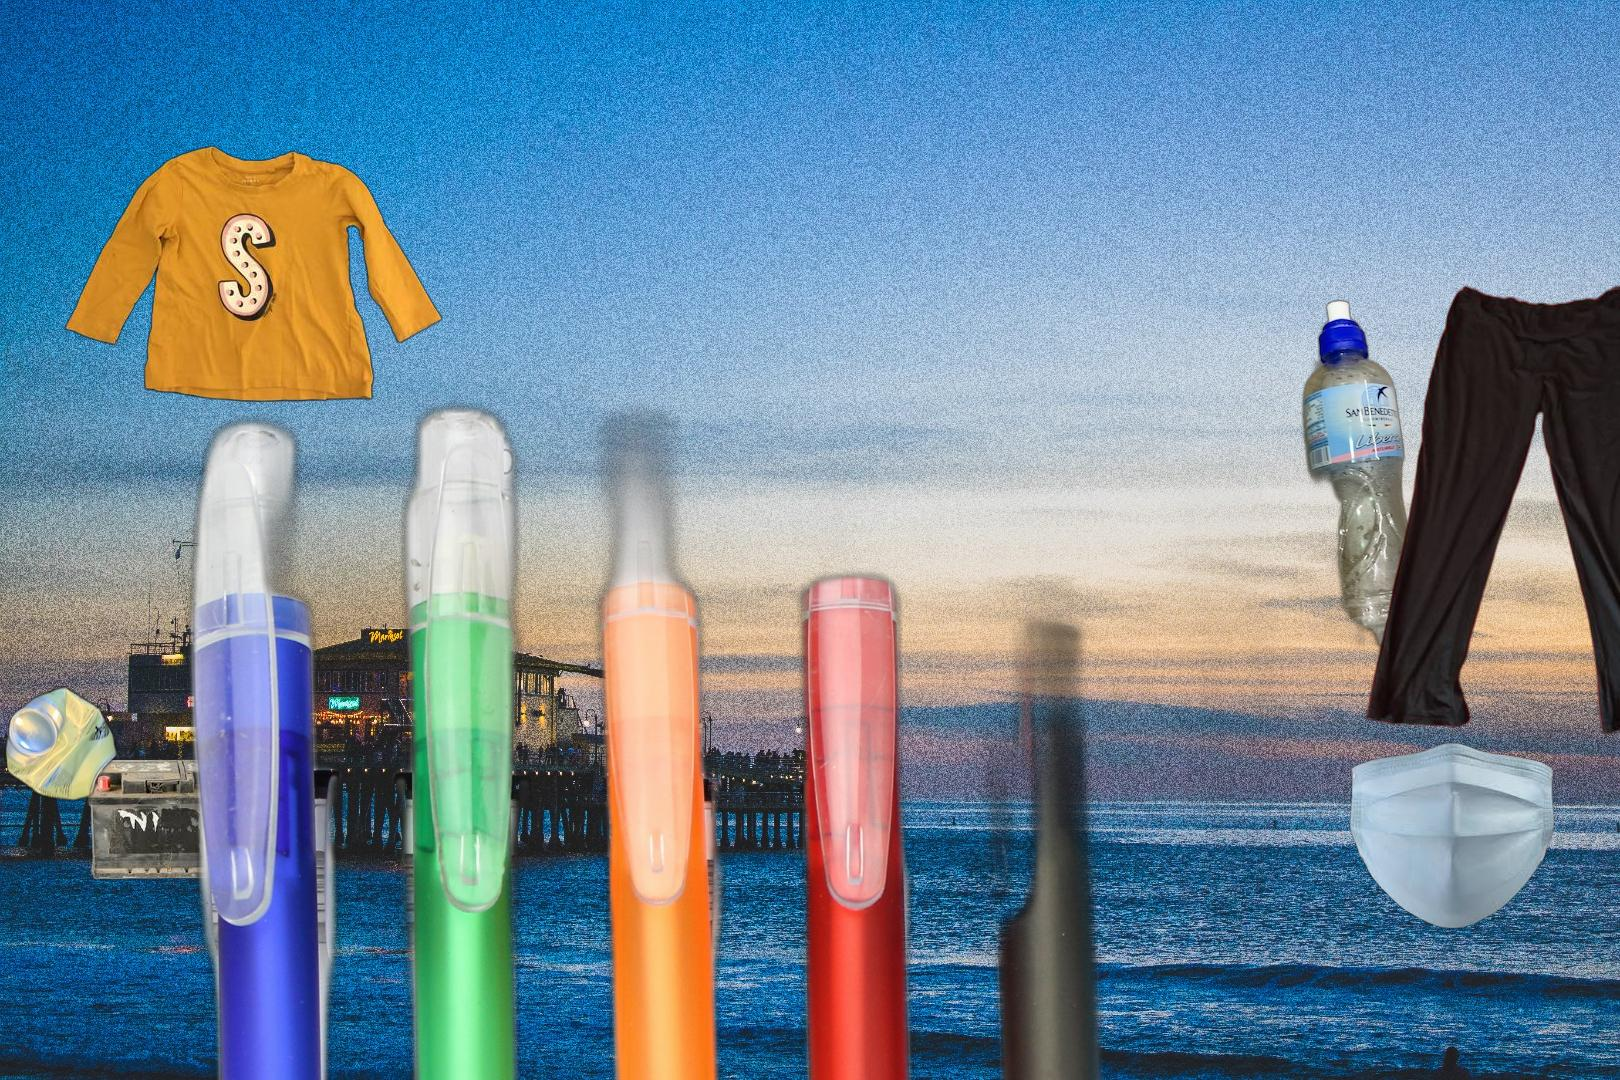battery: (84, 756, 233, 882)
clothes: (1363, 281, 1620, 761), (61, 143, 446, 405)
metal-cans: (2, 680, 121, 808)
penholder: (160, 312, 1360, 1080)
plastic-bottles: (1188, 295, 1525, 681)
trash: (1348, 740, 1565, 931)
